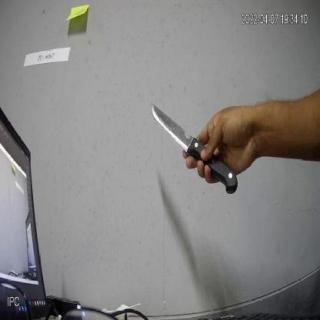knife: (150, 107, 239, 195)
